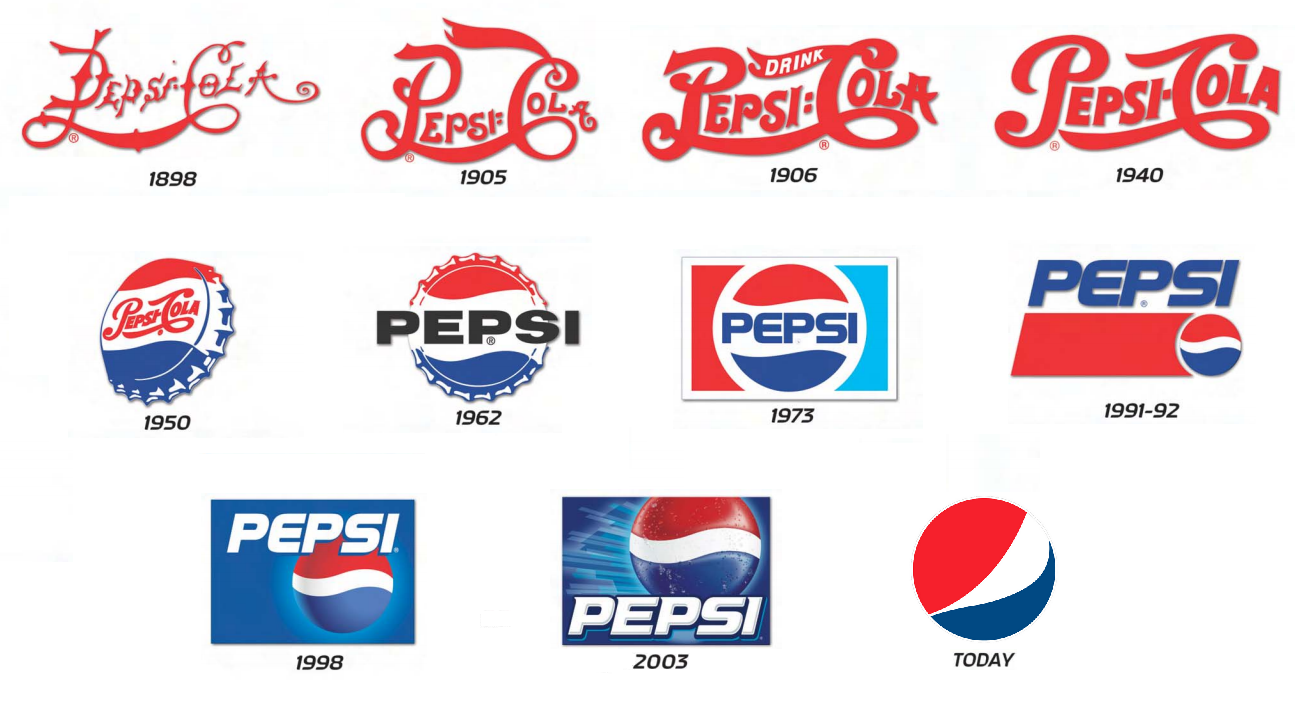pepsi: (911, 488, 1057, 643), (911, 501, 1057, 643), (911, 501, 1057, 640), (724, 259, 846, 394), (628, 493, 759, 595), (628, 493, 750, 595), (635, 493, 750, 595), (284, 533, 392, 628), (1175, 304, 1241, 373)
